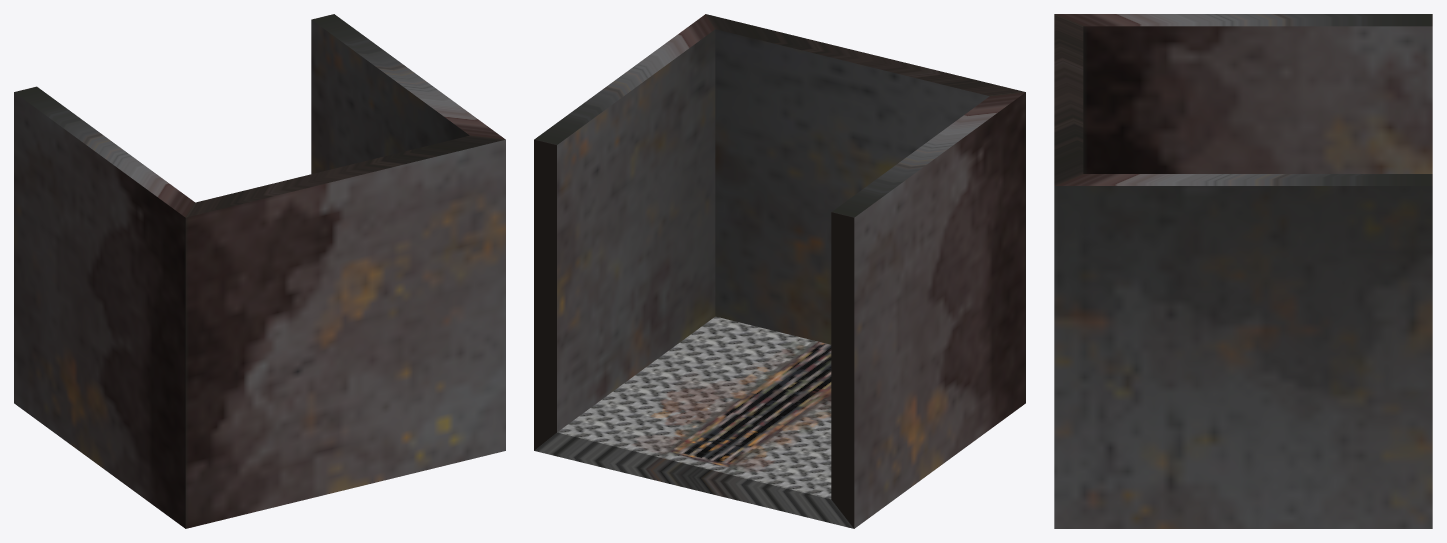
Rendered from FloorTile.005 1.fbx.
3 renders of one model, left to right at view 1: azimuth 30°, elevation 25°; view 2: azimuth 150°, elevation 25°; view 3: azimuth 270°, elevation 25°, orthographic. The views are drawn at different scales.
Parts seen in each view (by area): view 1: FloorTile.005; view 2: FloorTile.005; view 3: FloorTile.005.
Boxes of the visible parts, x1,y1,x2,y2 form: FloorTile.005: [14, 14, 505, 528]; FloorTile.005: [534, 14, 1025, 528]; FloorTile.005: [1054, 14, 1432, 528].
Bounding box in the file's own units: 700 × 650 × 650.
